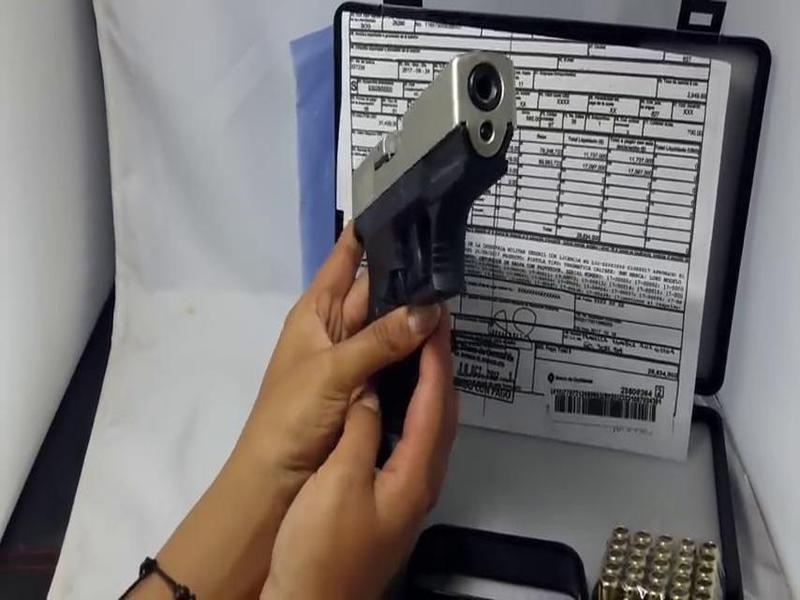Pistola: (325, 36, 545, 424)
